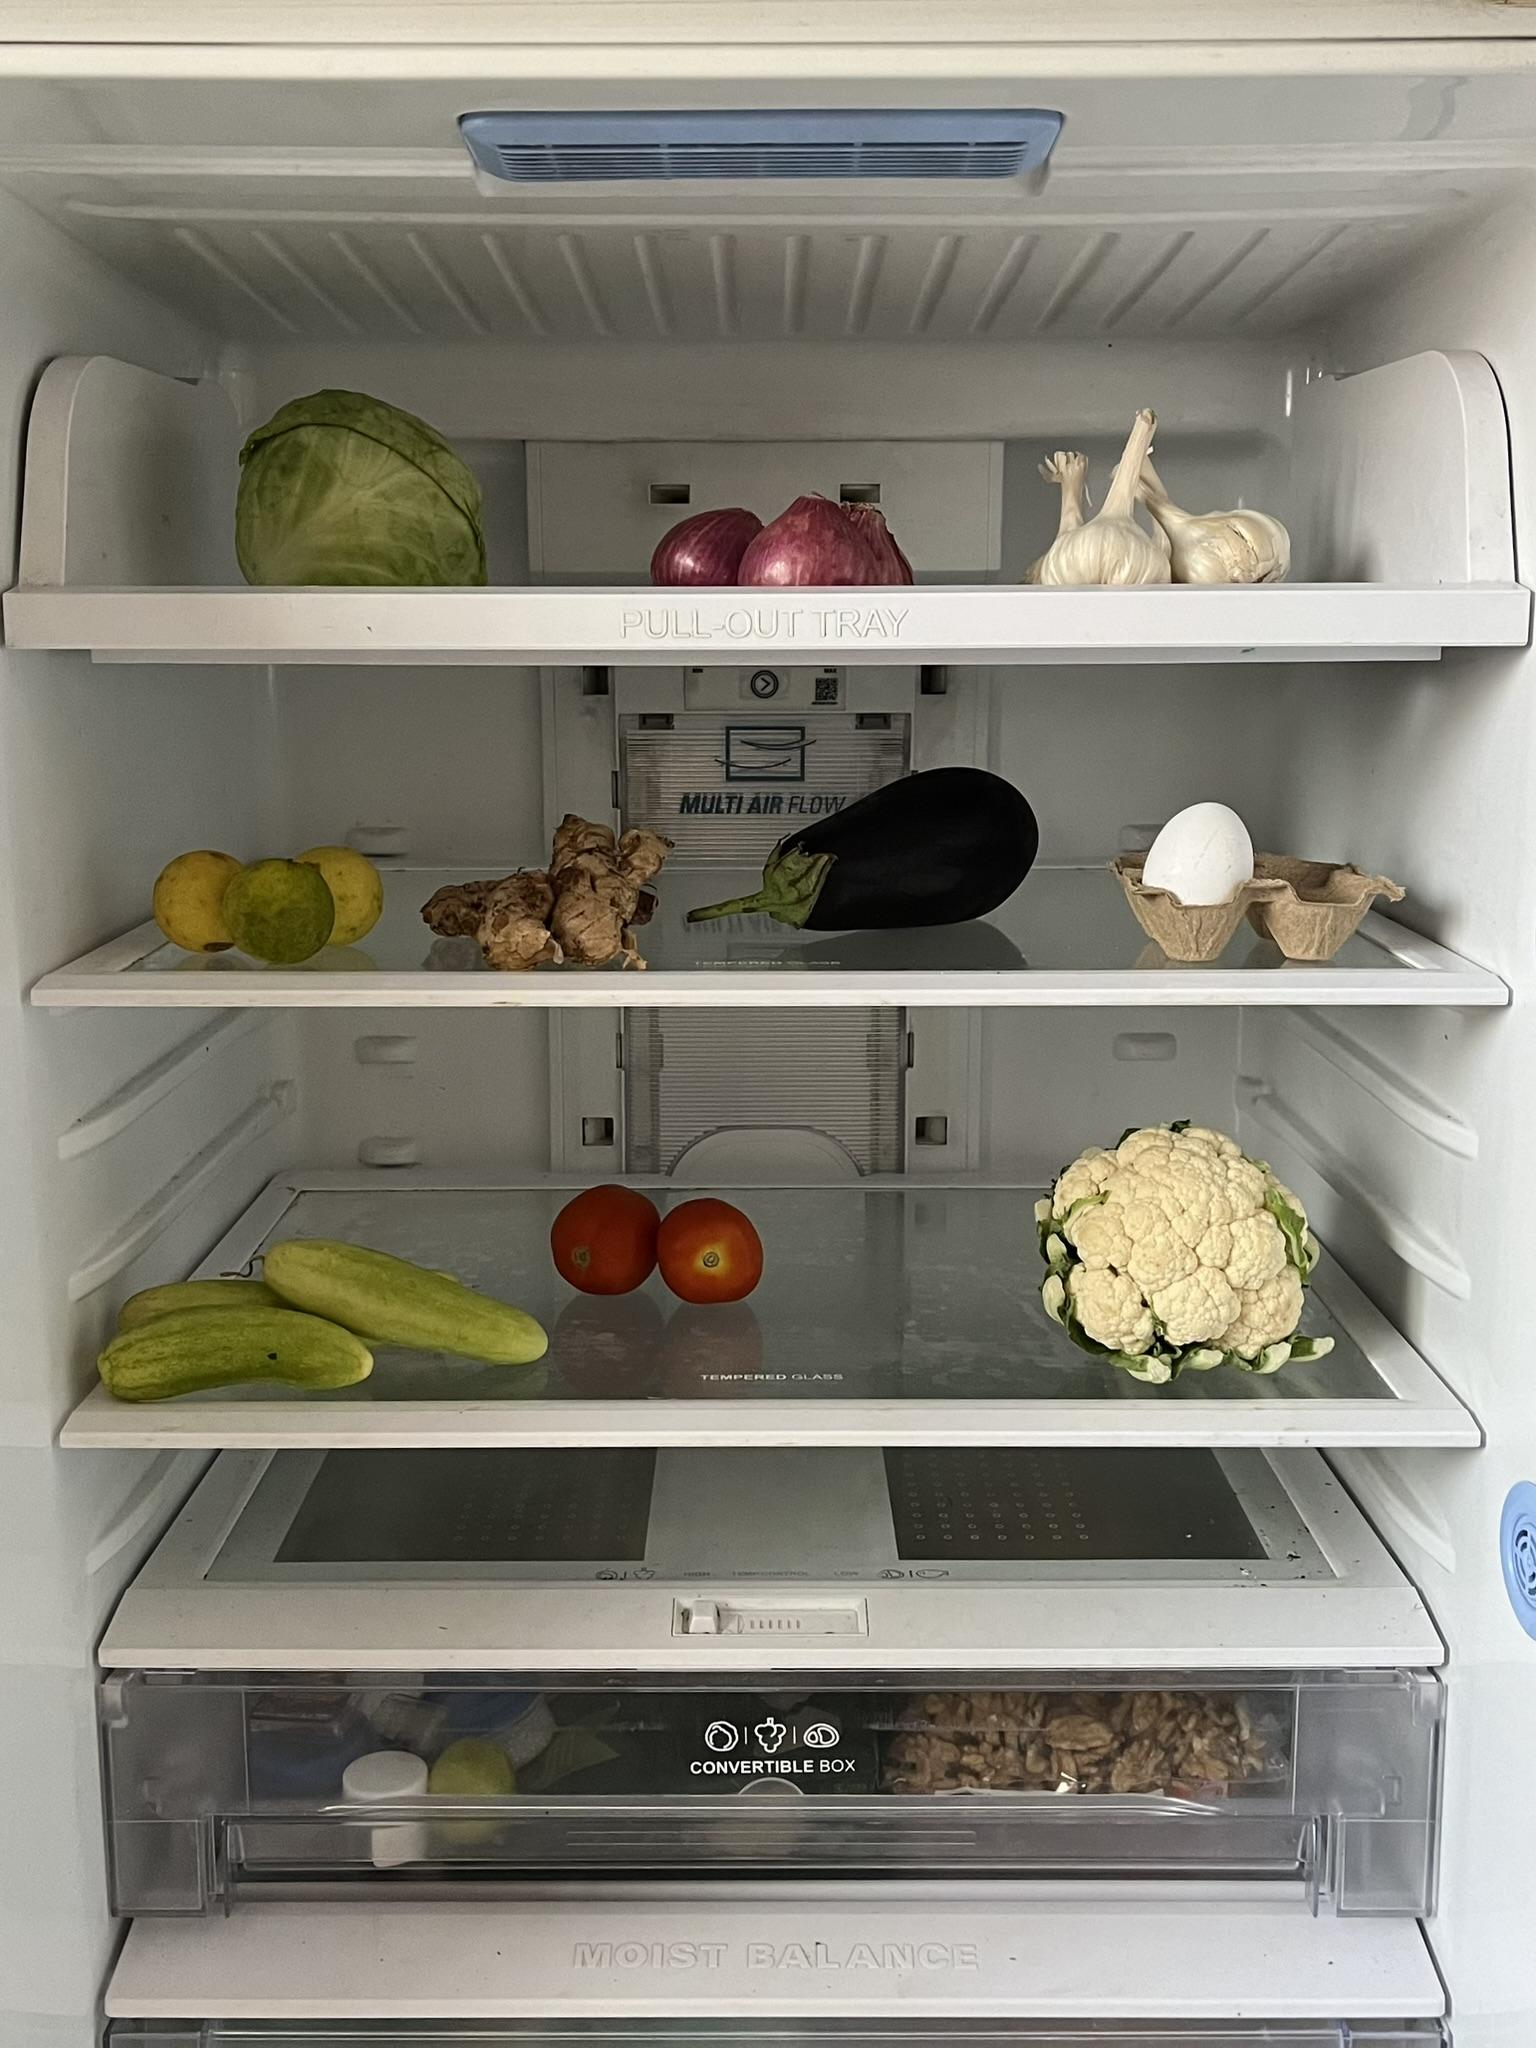bringal: (700, 760, 1060, 916)
cabbage: (234, 374, 484, 587)
cauliflower: (1041, 1109, 1323, 1380)
cucumber: (103, 1247, 557, 1397)
egg: (1141, 787, 1254, 943)
garlic: (1029, 410, 1291, 584)
ginger: (407, 813, 653, 963)
lemon: (153, 847, 384, 956)
onion: (647, 493, 916, 587)
tomato: (553, 1177, 766, 1303)
